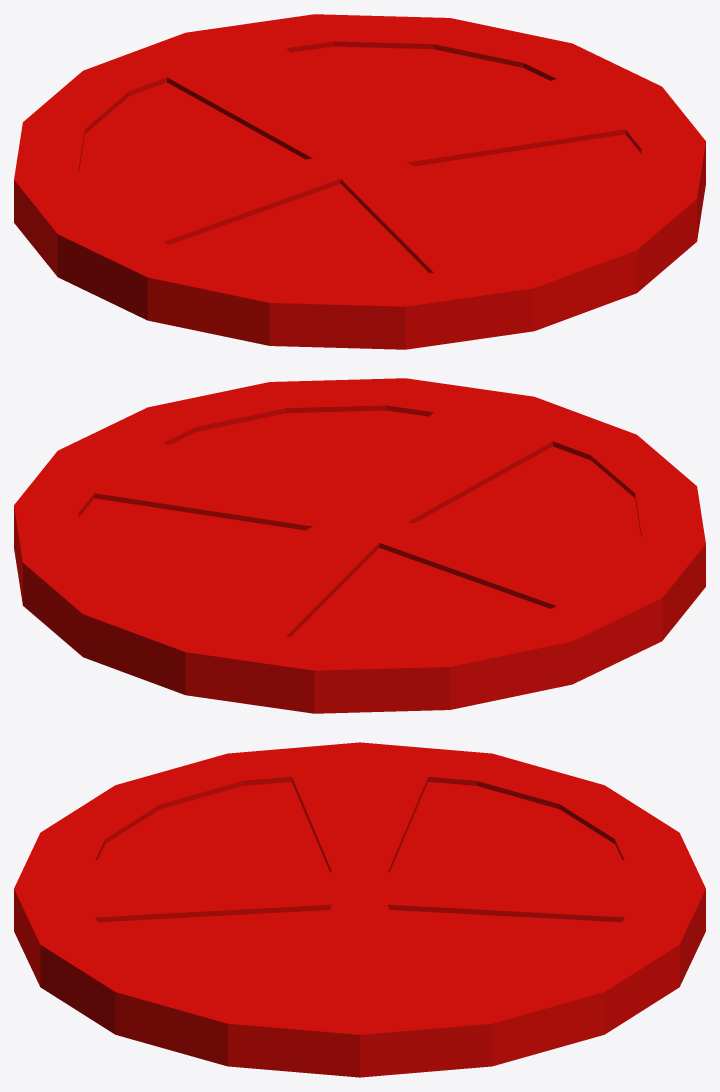
The model's file is TomatoCutModel.fbx.
3 renders of one model, top to bottom at view 1: azimuth 30°, elevation 25°; view 2: azimuth 150°, elevation 25°; view 3: azimuth 270°, elevation 25°, orthographic.
Parts seen in each view (by area): view 1: TomatoCut; view 2: TomatoCut; view 3: TomatoCut.
Part boxes in pixels (x1,y1,x2,y2): TomatoCut: (14,14,705,349); TomatoCut: (14,378,705,713); TomatoCut: (14,742,705,1077).
Size of the model in its own units: 36.73 by 36.73 by 2.5.
